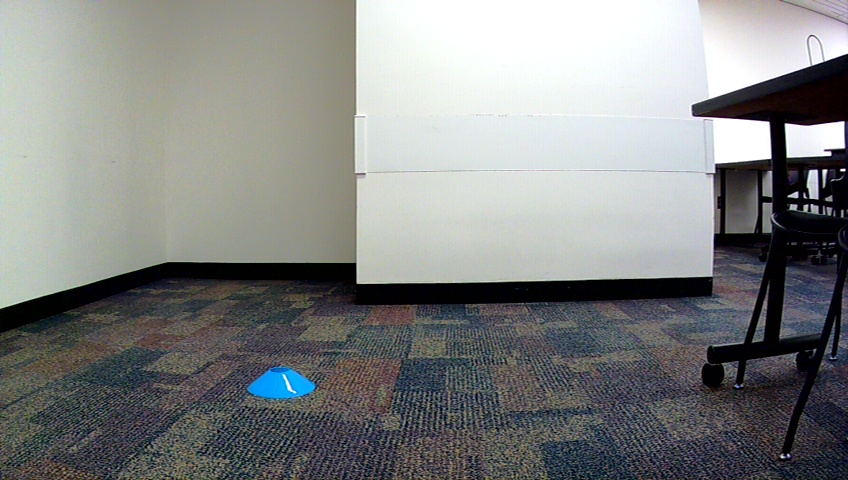cone: (248, 368, 318, 399)
